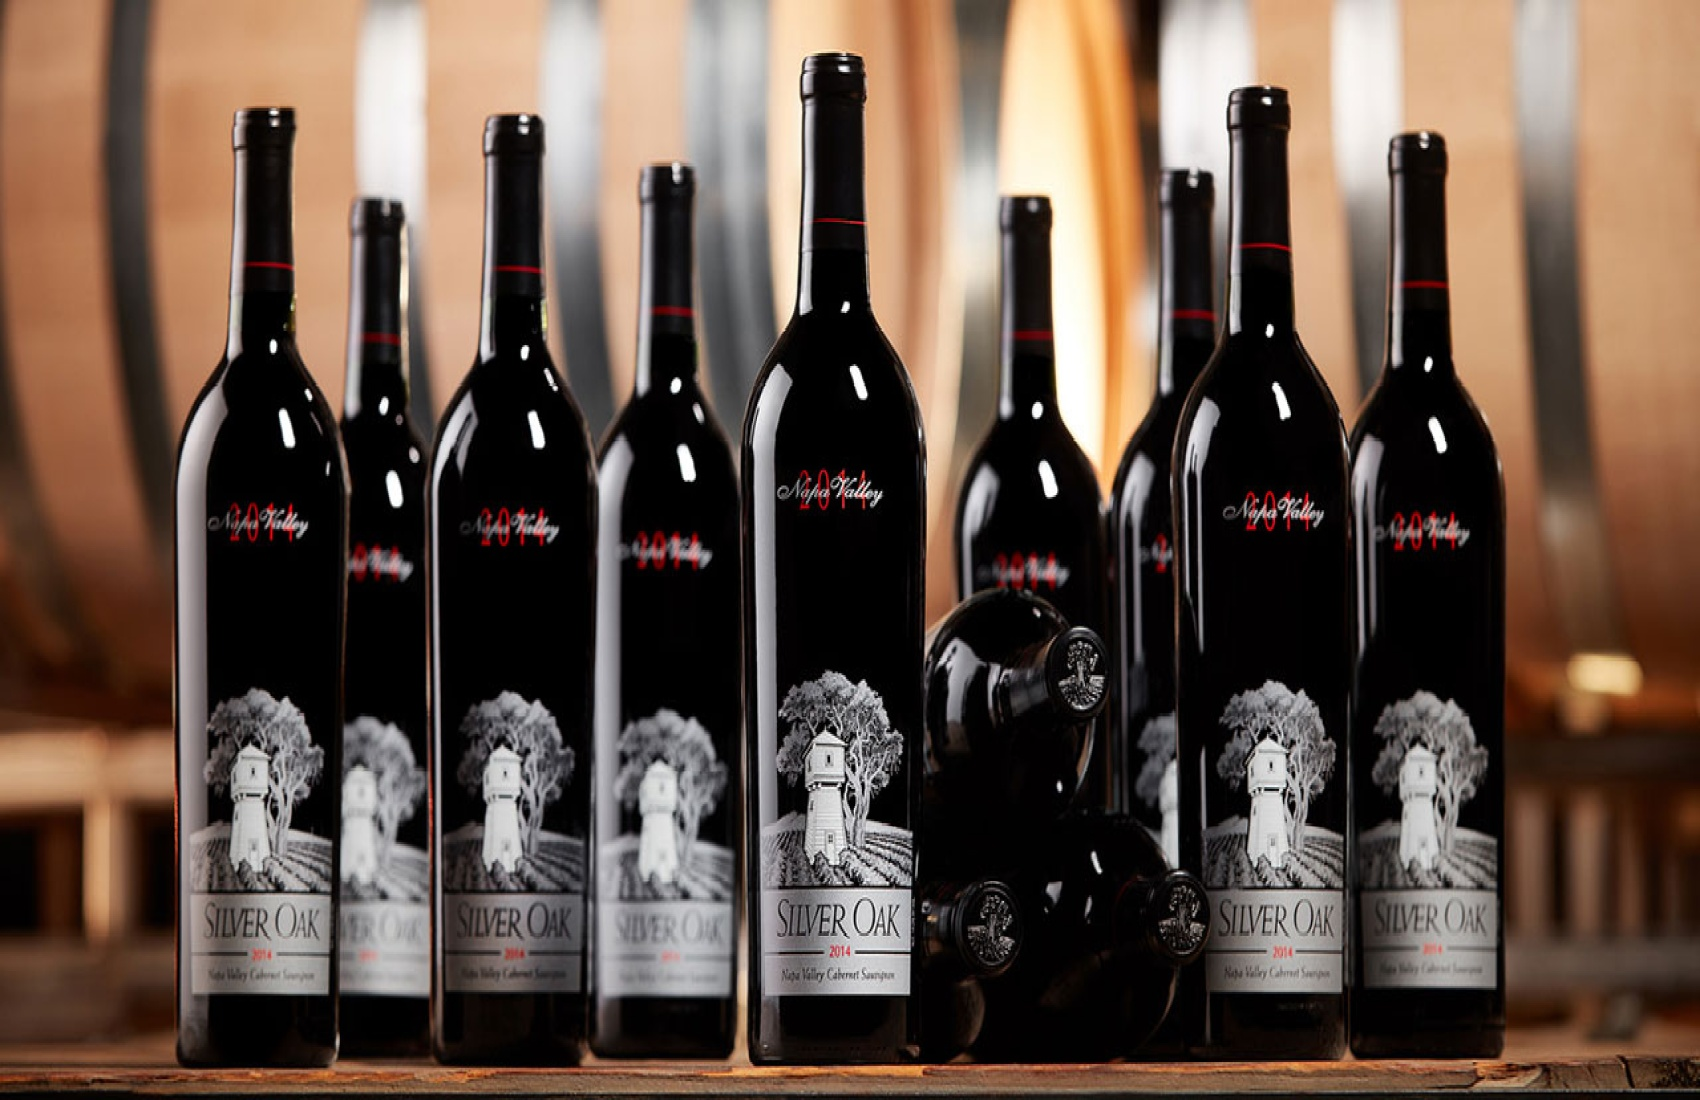wine: (735, 66, 917, 1050), (169, 94, 343, 1055), (1183, 84, 1339, 1034), (1351, 136, 1503, 1053), (426, 116, 567, 1064), (582, 164, 724, 1069)
